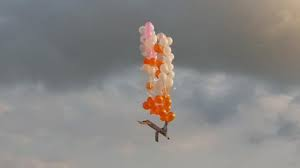Balloon: (144, 48, 154, 59), (167, 111, 176, 122), (145, 21, 154, 32), (158, 72, 167, 82), (155, 95, 164, 105), (160, 37, 168, 46), (163, 46, 171, 55), (160, 63, 168, 72)
